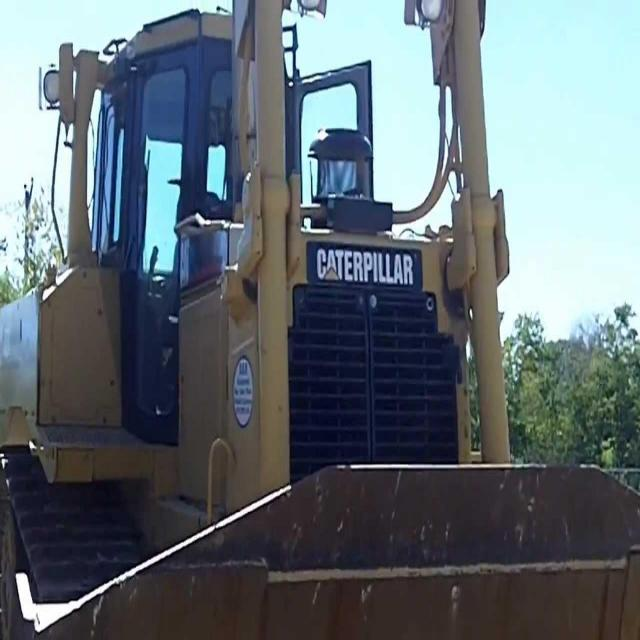Bulldozer: (11, 6, 632, 639)
